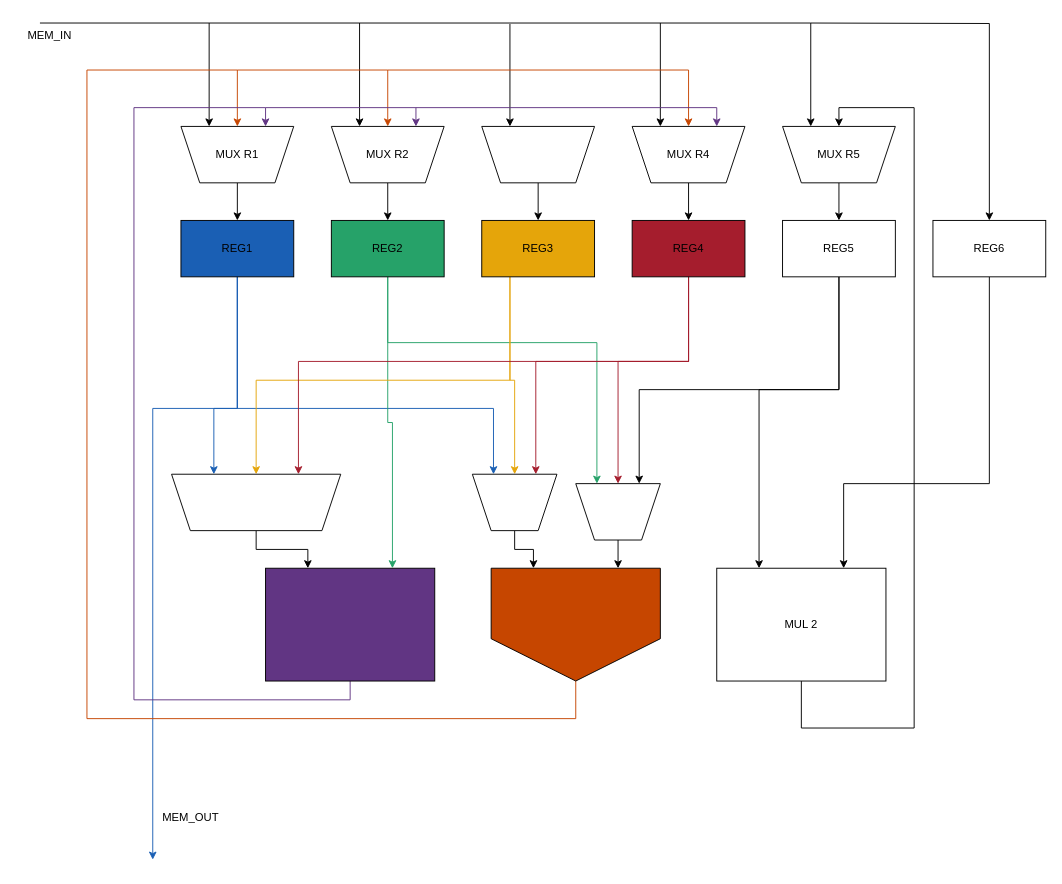
The diagram is 1062 pixels wide and 884 high, and some of its shapes have lost their labels. Each missing label, with the box of its shape:
ALU: (490, 567, 660, 681)
MUL 1: (265, 567, 435, 681)
MUX ALU1: (471, 473, 557, 531)
MUX ALU2: (575, 483, 660, 540)
MUX MUL: (171, 473, 341, 531)
MUX R3: (481, 125, 595, 183)
